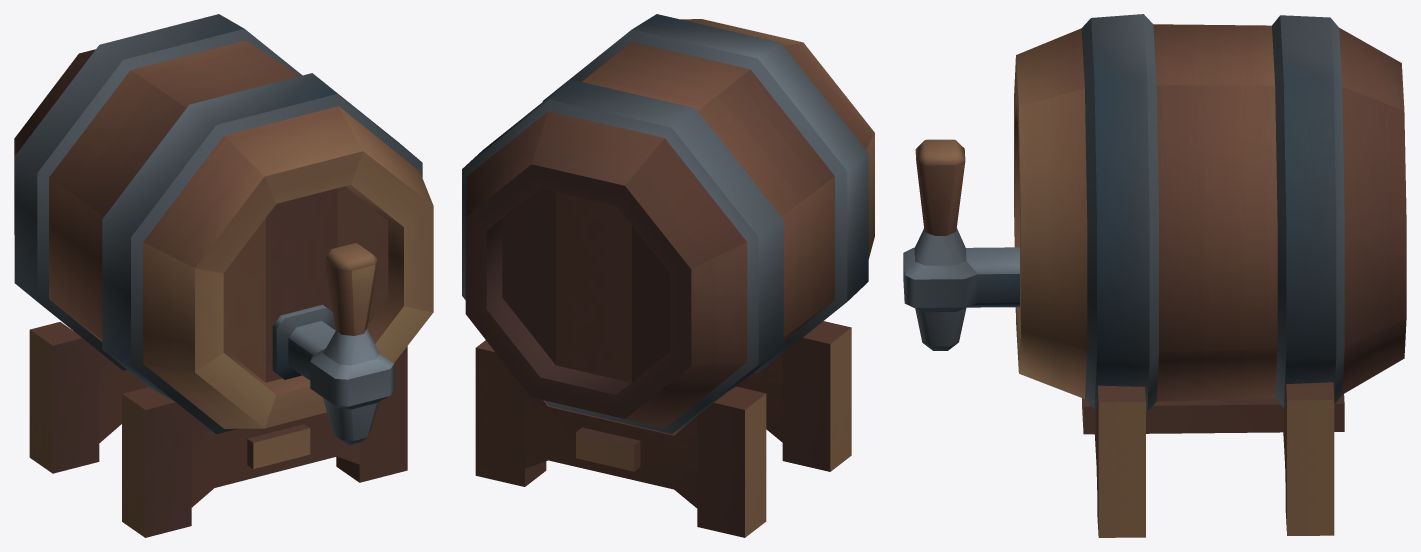
Rendered from kask_tap_stand.fbx.
3 views of the same model, side by side, from view 1: azimuth 30°, elevation 25°; view 2: azimuth 150°, elevation 25°; view 3: azimuth 270°, elevation 25° (orthographic). The views are drawn at different scales.
Visible parts, largest first — view 1: kask_tap_stand; view 2: kask_tap_stand; view 3: kask_tap_stand.
Boxes of the visible parts, <box> form: kask_tap_stand: <box>14,14,433,537</box>; kask_tap_stand: <box>462,14,874,537</box>; kask_tap_stand: <box>903,14,1406,537</box>.
Bounding box in the file's own units: 91.03 × 115 × 124.
